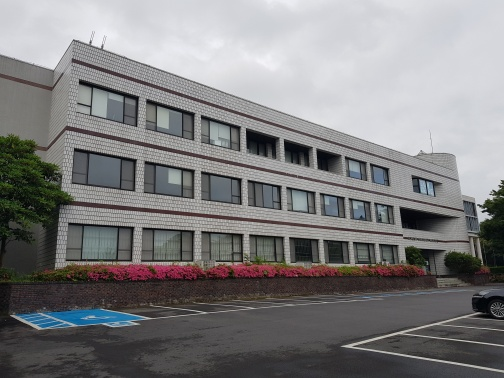Foreign Language Institute: (38, 38, 473, 292), (66, 142, 284, 223), (66, 216, 289, 289), (75, 76, 242, 154)
